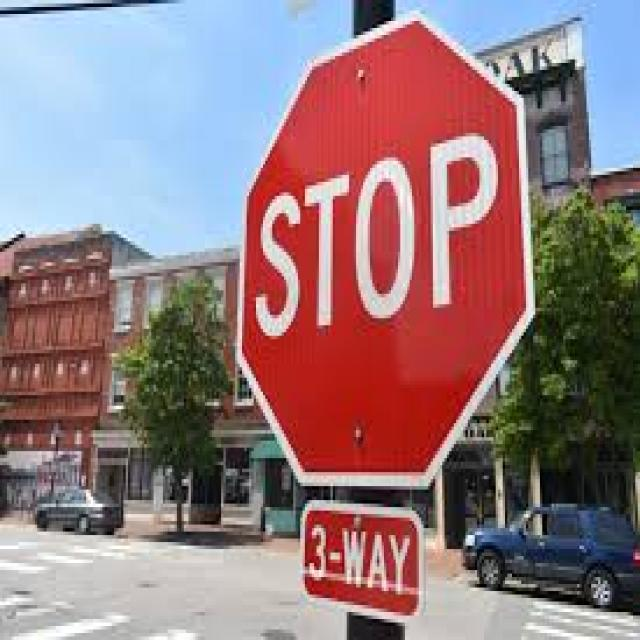stop-sign: (248, 50, 456, 399)
